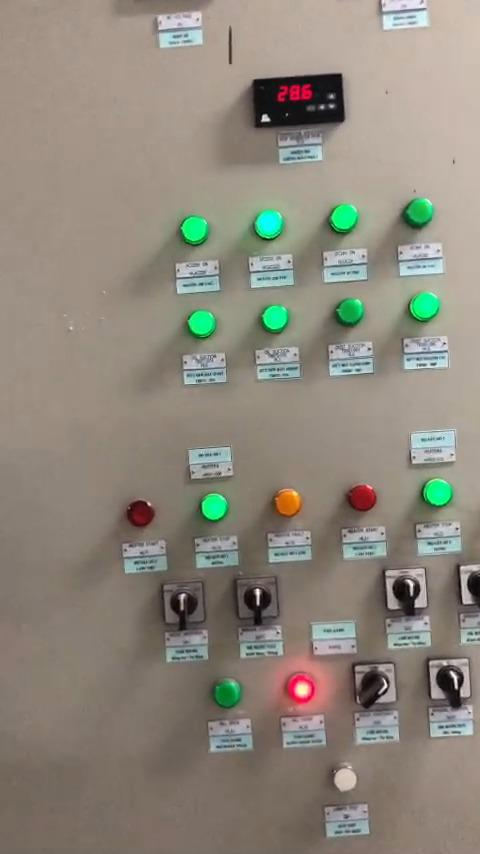led: (209, 675, 244, 709), (122, 495, 155, 531), (327, 203, 361, 236), (288, 674, 320, 709), (343, 484, 376, 516), (328, 763, 359, 796), (420, 479, 453, 509), (179, 218, 210, 249), (404, 200, 435, 230), (199, 491, 229, 521), (272, 488, 301, 518), (254, 211, 283, 240), (184, 310, 213, 339), (335, 298, 365, 326), (258, 308, 288, 336), (412, 293, 440, 321)
twist: (162, 581, 204, 628), (234, 576, 275, 623), (355, 663, 398, 706), (387, 568, 429, 610), (428, 657, 468, 700), (454, 564, 480, 609)
